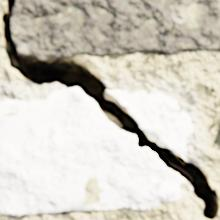brick: (11, 0, 219, 60)
broken_brick: (0, 88, 185, 215), (107, 89, 192, 161)
crack: (1, 0, 218, 219)
